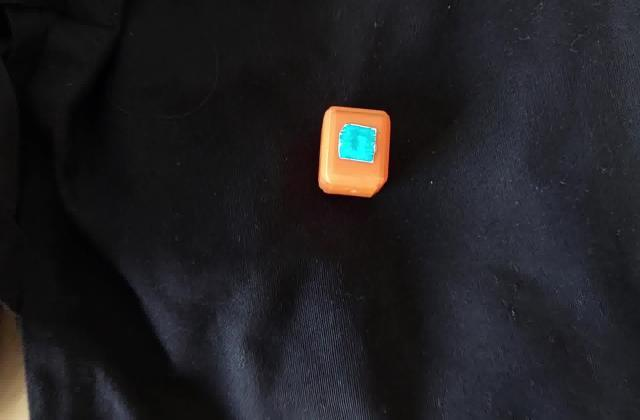blue: (347, 129, 372, 157)
sticker: (314, 102, 394, 204)
